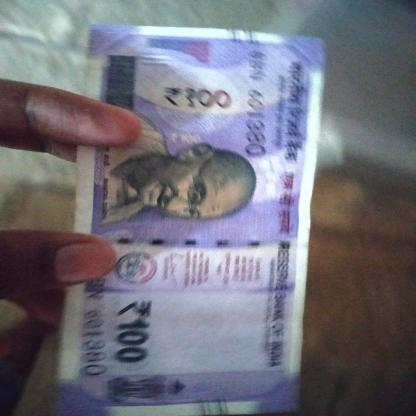New100Front: (77, 25, 309, 416)
